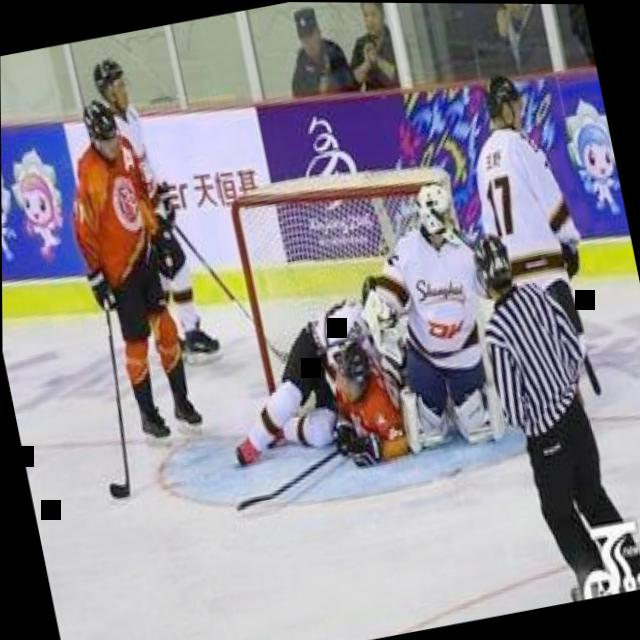Fall-Detected: (344, 154, 505, 415)
